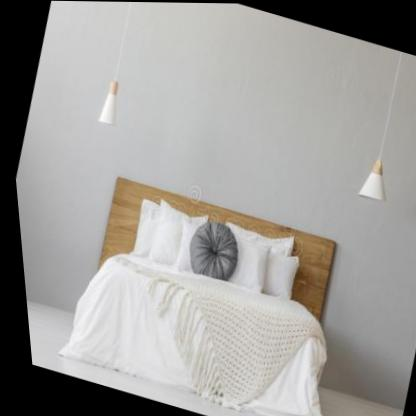Bed: (39, 166, 354, 416)
Lamp: (346, 47, 416, 203), (86, 1, 155, 126)
